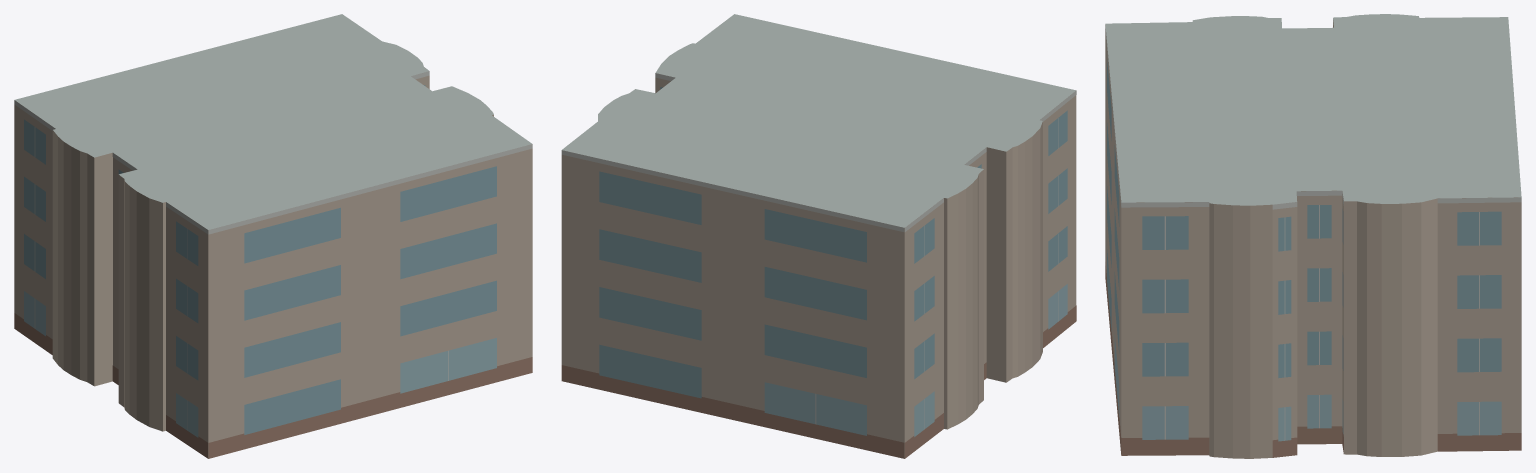
The model's file is survey-upis-32947501.glb.
3 renders of one model, left to right at view 1: azimuth 30°, elevation 25°; view 2: azimuth 150°, elevation 25°; view 3: azimuth 270°, elevation 25°, orthographic. The views are drawn at different scales.
Parts seen in each view (by area): view 1: survey-upis-32947501.tmp; view 2: survey-upis-32947501.tmp; view 3: survey-upis-32947501.tmp.
Part boxes in pixels (x1,y1,x2,y2): survey-upis-32947501.tmp: [14, 14, 532, 458]; survey-upis-32947501.tmp: [561, 14, 1076, 458]; survey-upis-32947501.tmp: [1105, 14, 1521, 458].
Bounding box in the file's own units: 20.14 × 12.4 × 18.48.
